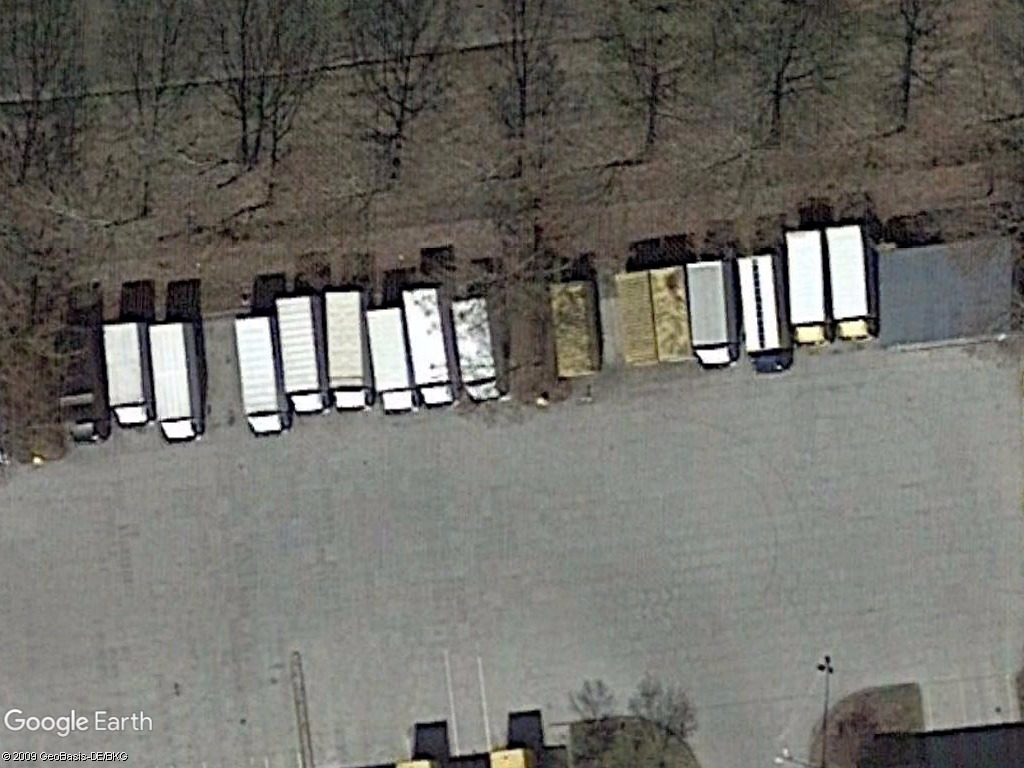truck: (145, 313, 209, 441), (731, 251, 796, 376), (399, 281, 461, 411), (318, 287, 379, 414), (822, 219, 882, 348), (272, 292, 332, 421), (232, 312, 289, 436), (364, 300, 421, 417), (682, 256, 740, 370), (780, 224, 833, 347), (101, 318, 153, 428)
